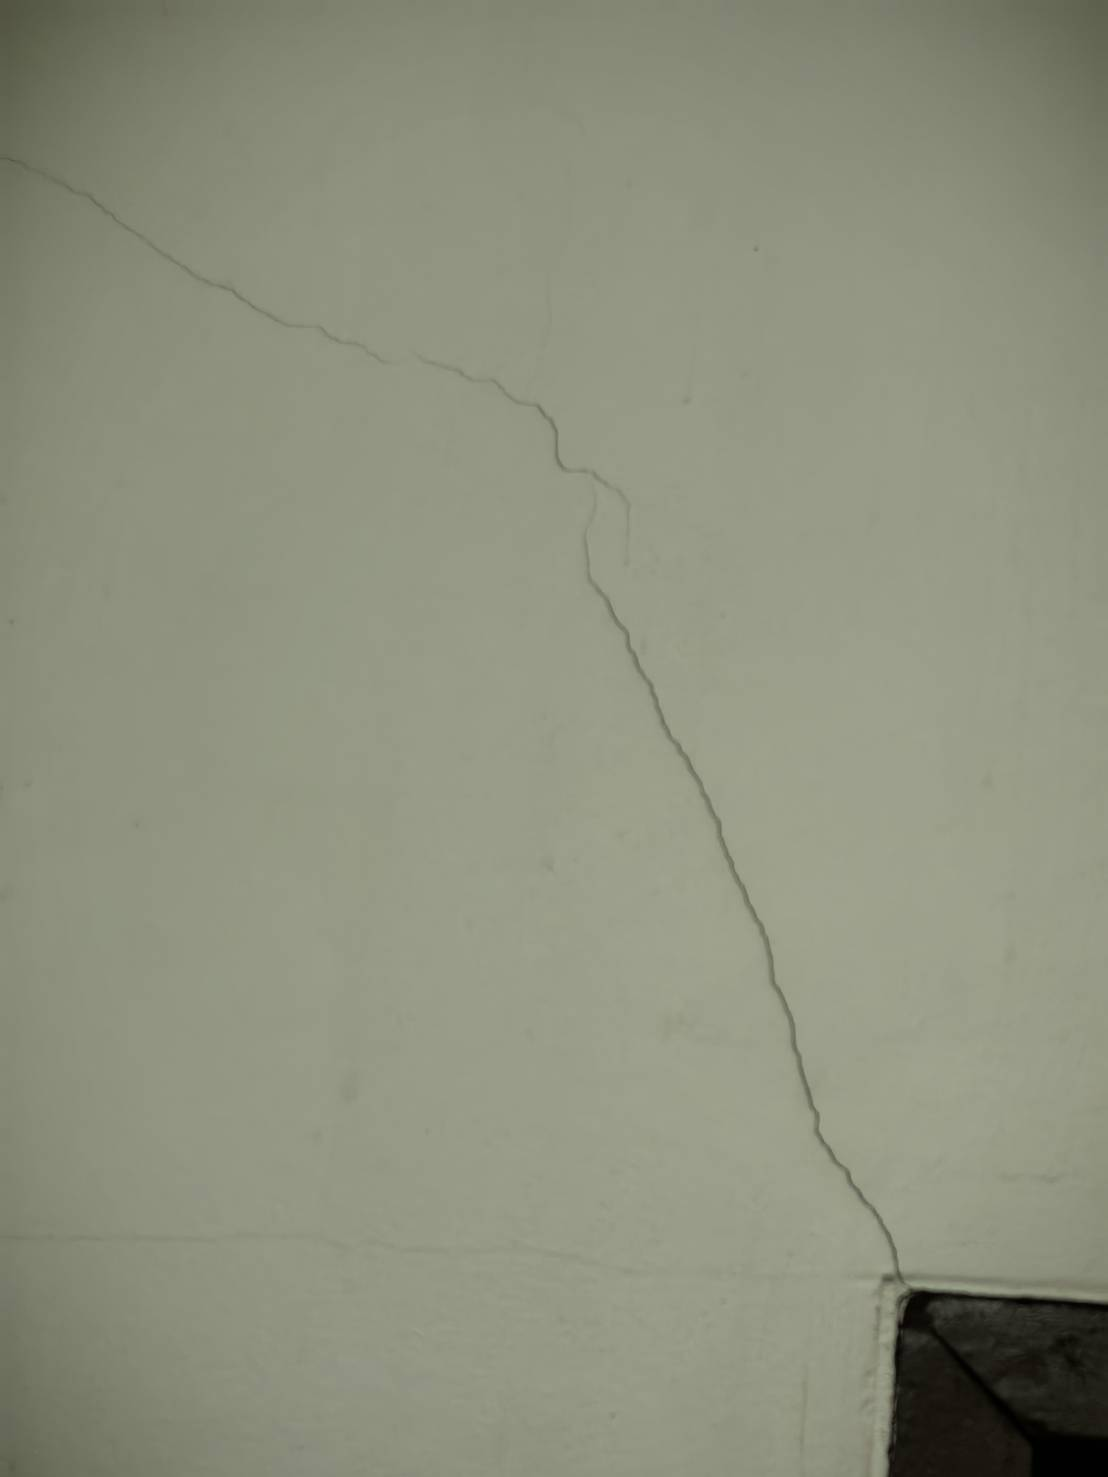Low: (3, 139, 922, 1299)
